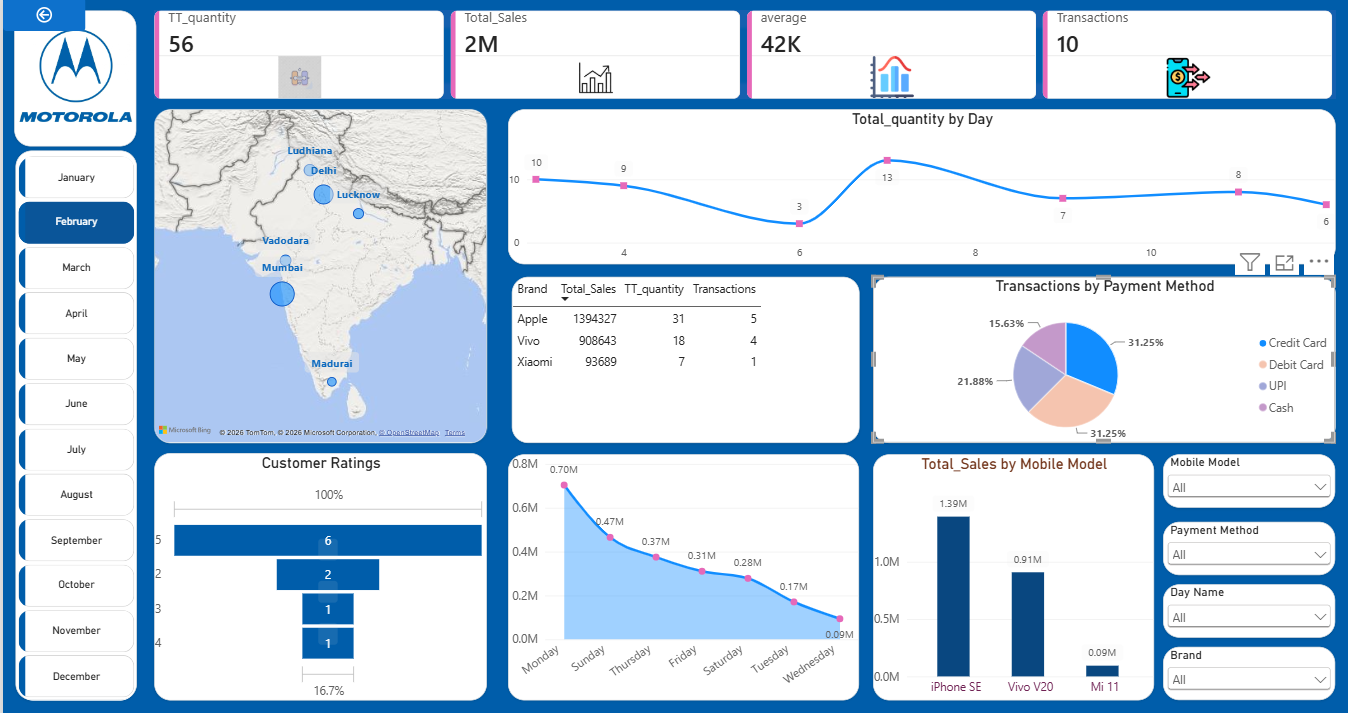

The page's visual inventory and layout, read from the dashboard file:
{"tool":"powerbi","page":{"name":"Page 1","canvas":[1920,1080],"ordinal":0},"visuals":[{"type":"shape","box":[12.9,14.5,148.4,164.5],"z":0},{"type":"image","box":[17.7,27.4,140.3,133.9],"z":1000},{"type":"shape","box":[15.2,184.8,147,666.7],"z":2000},{"type":"advancedSlicerVisual","fields":{"Values":["Sheet1.Date.Variation.Date Hierarchy.Month"]},"box":[18.2,190.9,142.4,660.6],"z":3000},{"type":"cardVisual","fields":{"Data":["Sheet1.TT_quantity","Sheet1.Total_Sales","Sheet1.average","Sheet1.Transactions"]},"box":[183.3,15.2,1431.8,107.6],"z":4000},{"type":"map","fields":{"Category":["Sheet1.City"],"Size":["Sheet1.Total_Sales"]},"box":[183.3,134.8,403,404.5],"z":5000},{"type":"lineChart","fields":{"Category":["Sheet1.Date.Variation.Date Hierarchy.Month","Sheet1.Date.Variation.Date Hierarchy.Day"],"Y":["Sheet1.TT_quantity"]},"box":[612.1,134.8,1003,187.9],"z":6000},{"type":"clusteredColumnChart","fields":{"Category":["Sheet1.Mobile Model"],"Y":["Sheet1.Total_Sales"]},"box":[1054.5,553,340.9,298.5],"z":7000},{"type":"pieChart","fields":{"Category":["Sheet1.Payment Method"],"Y":["Sheet1.Transactions"]},"box":[1054.5,337.9,560.6,201.5],"z":8000},{"type":"funnel","title":"Customer Ratings","fields":{"Category":["Sheet1.Customer Ratings"],"Y":["CountNonNull(Sheet1.Customer Ratings)"]},"box":[183.3,551.5,403,300],"z":9000},{"type":"areaChart","fields":{"Category":["Sheet1.Day Name"],"Y":["Sheet1.Total_Sales"]},"box":[612.1,553,425.8,298.5],"z":10000},{"type":"tableEx","fields":{"Values":["Sheet1.Brand","Sheet1.Total_Sales","Sheet1.TT_quantity","Sheet1.Transactions"]},"box":[616.7,337.9,421.2,201.5],"z":11000},{"type":"actionButton","box":[0,0,100,40],"z":12000},{"type":"slicer","fields":{"Values":["Sheet1.Mobile Model"]},"box":[1406.1,553,209.1,65.2],"z":12001},{"type":"slicer","fields":{"Values":["Sheet1.Payment Method"]},"box":[1406.1,634.8,209.1,65.2],"z":12002},{"type":"slicer","fields":{"Values":["Sheet1.Day Name"]},"box":[1406.1,710.6,209.1,65.2],"z":12003},{"type":"slicer","fields":{"Values":["Sheet1.Brand"]},"box":[1406.1,786.4,209.1,65.2],"z":12004}]}

Visuals, with their boxes on the page's 1920x1080 design canvas (x1, y1, x2, y2). These are canvas units, not pixel positions in the 1348x713 screenshot, which may show the page scaled, cropped or inside an application window:
shape: <bbox>13, 14, 161, 179</bbox>
image: <bbox>18, 27, 158, 161</bbox>
shape: <bbox>15, 185, 162, 852</bbox>
advancedSlicerVisual - Sheet1.Date.Variation.Date Hierarchy.Month: <bbox>18, 191, 161, 852</bbox>
cardVisual - Sheet1.TT_quantity x Sheet1.Total_Sales: <bbox>183, 15, 1615, 123</bbox>
map - Sheet1.City x Sheet1.Total_Sales: <bbox>183, 135, 586, 539</bbox>
lineChart - Sheet1.Date.Variation.Date Hierarchy.Month x Sheet1.Date.Variation.Date Hierarchy.Day: <bbox>612, 135, 1615, 323</bbox>
clusteredColumnChart - Sheet1.Mobile Model x Sheet1.Total_Sales: <bbox>1054, 553, 1395, 852</bbox>
pieChart - Sheet1.Payment Method x Sheet1.Transactions: <bbox>1054, 338, 1615, 539</bbox>
"Customer Ratings" funnel: <bbox>183, 552, 586, 852</bbox>
areaChart - Sheet1.Day Name x Sheet1.Total_Sales: <bbox>612, 553, 1038, 852</bbox>
tableEx - Sheet1.Brand x Sheet1.Total_Sales: <bbox>617, 338, 1038, 539</bbox>
actionButton: <bbox>0, 0, 100, 40</bbox>
slicer - Sheet1.Mobile Model: <bbox>1406, 553, 1615, 618</bbox>
slicer - Sheet1.Payment Method: <bbox>1406, 635, 1615, 700</bbox>
slicer - Sheet1.Day Name: <bbox>1406, 711, 1615, 776</bbox>
slicer - Sheet1.Brand: <bbox>1406, 786, 1615, 852</bbox>
